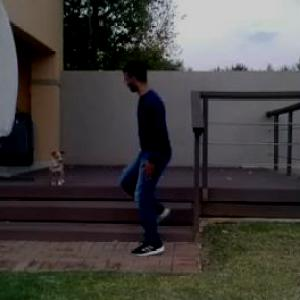follow: (121, 62, 174, 228)
